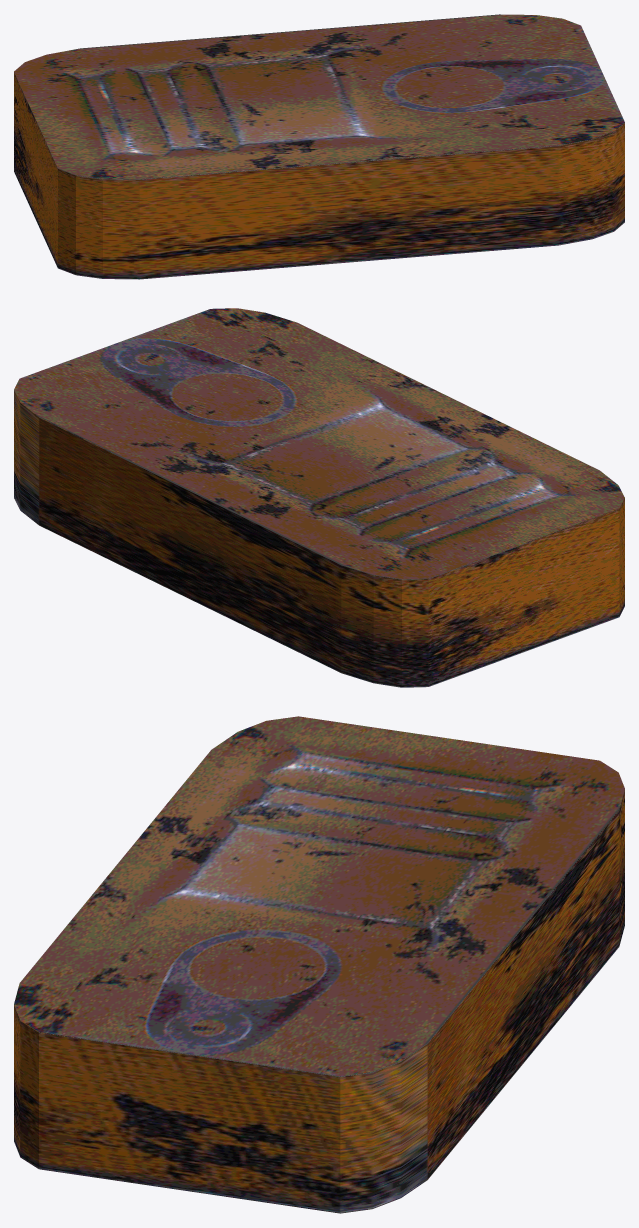
The model's file is LatadeSardinha.fbx.
The picture shows the model from 3 angles, top to bottom: view 1: azimuth 30°, elevation 25°; view 2: azimuth 150°, elevation 25°; view 3: azimuth 270°, elevation 25°; orthographic projection. The views are drawn at different scales.
Visible parts, largest first — view 1: Cube.010; view 2: Cube.010; view 3: Cube.010.
Part boxes in pixels (bbox=[...]): Cube.010: bbox=[14, 14, 624, 279]; Cube.010: bbox=[14, 308, 624, 687]; Cube.010: bbox=[14, 716, 624, 1213].
Bounding box in the file's own units: 14.72 × 2.62 × 10.56.
Materials: 1 (1 with a texture image).
